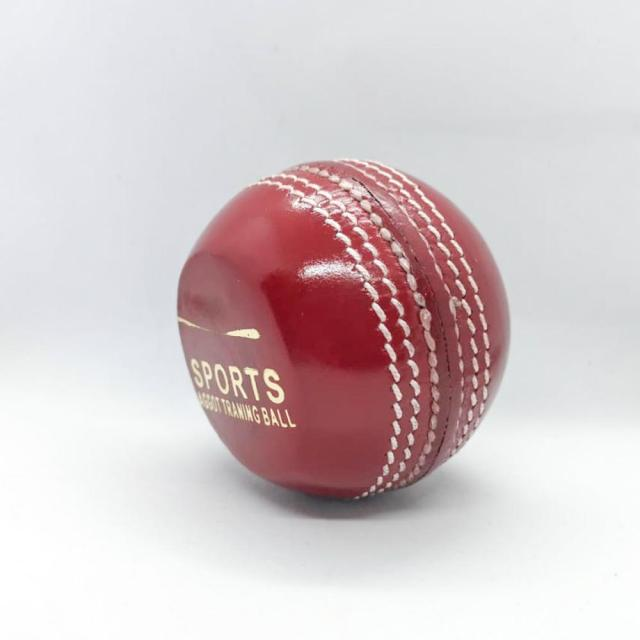ball: (178, 157, 516, 503)
